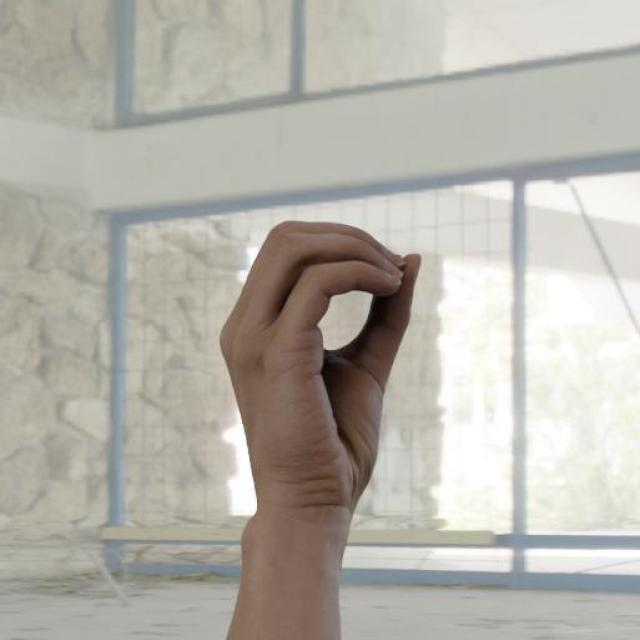O: (171, 188, 450, 607)
